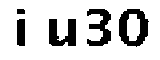0: (116, 4, 154, 52)
3: (81, 6, 113, 48)
i: (7, 4, 28, 51)
u: (43, 14, 77, 53)
